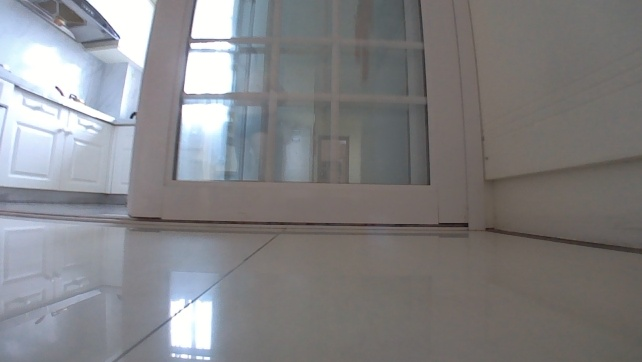cupboard: (0, 64, 153, 207)
